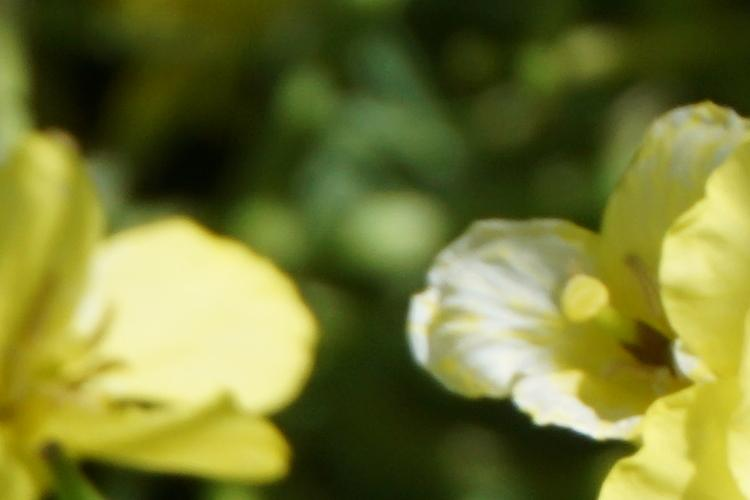yellow: (471, 106, 750, 469), (15, 131, 312, 455)
